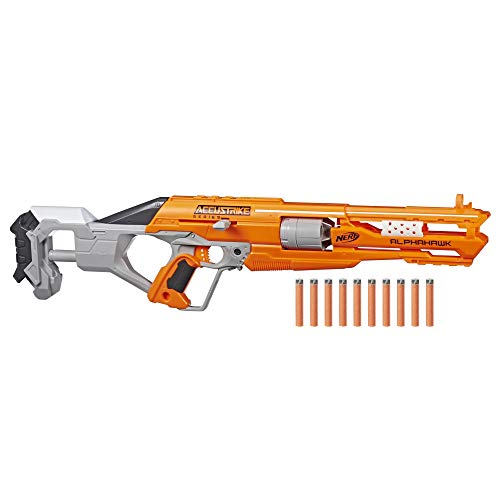Arma Falsa: (9, 190, 500, 318)
